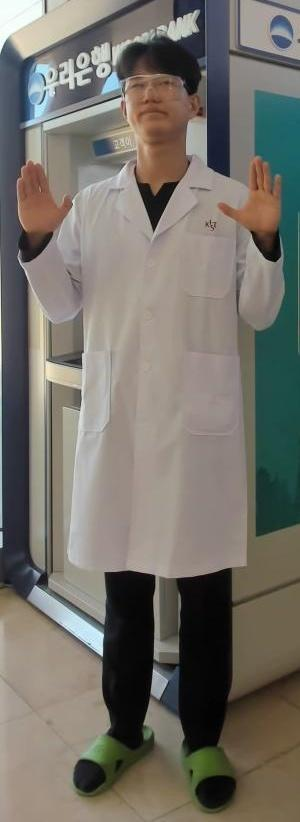lab_coat: (65, 184, 237, 574)
